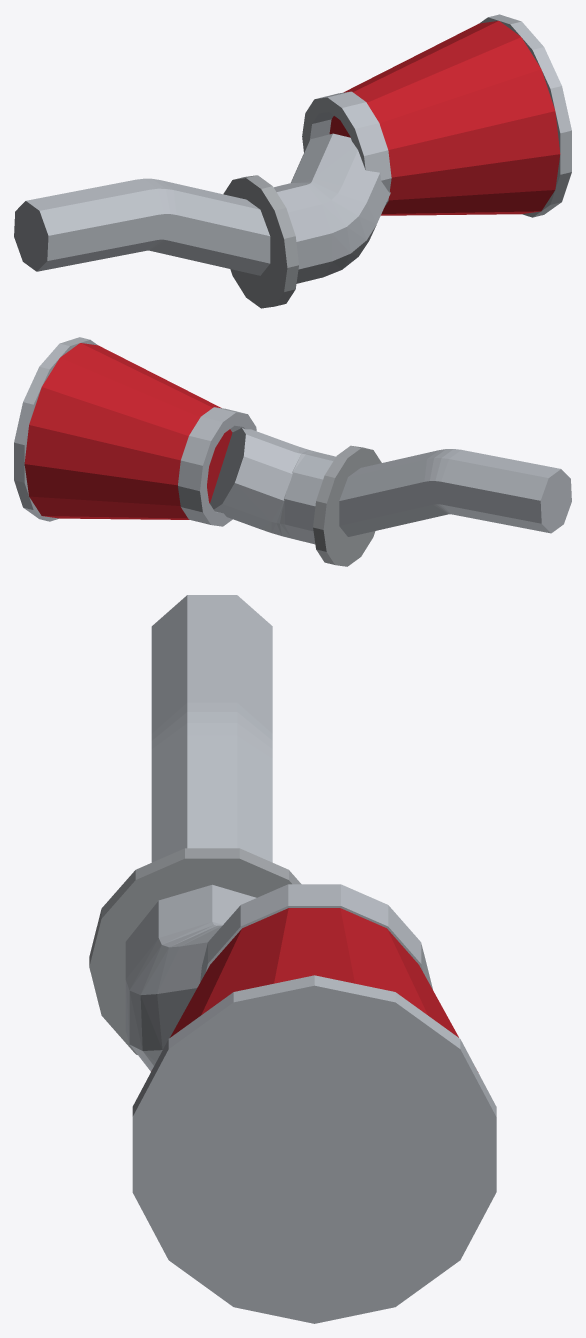
Rendered from brute_500.glb.
3 renders of one model, top to bottom at view 1: azimuth 30°, elevation 25°; view 2: azimuth 150°, elevation 25°; view 3: azimuth 270°, elevation 25°, orthographic. The views are drawn at different scales.
Parts seen in each view (by area): view 1: model; view 2: model; view 3: model.
Part boxes in pixels (<box>): model: <box>14,14,571,308</box>; model: <box>14,337,571,566</box>; model: <box>89,595,496,1323</box>.
Size of the model in its own units: 0.5335 by 0.1848 by 0.1991.
2 materials, 1 textured.
